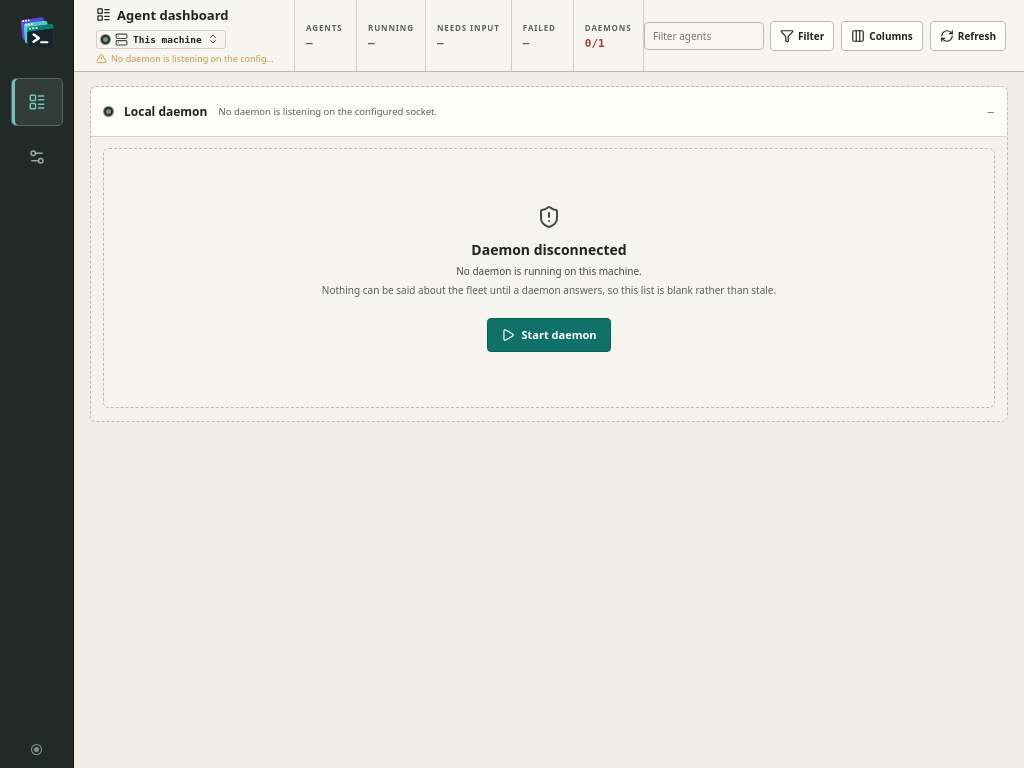
Test case: ControlDeck › starting a disconnected deck (issue #1490) › shows a failed start's technical detail on the overview deck
This screenshot has width=1024, height=768.
What coordinates should you click on to do the following:
click the button with test id "start-daemon"
I would click on:
 (549, 334)
Its box is [488, 318, 611, 352].
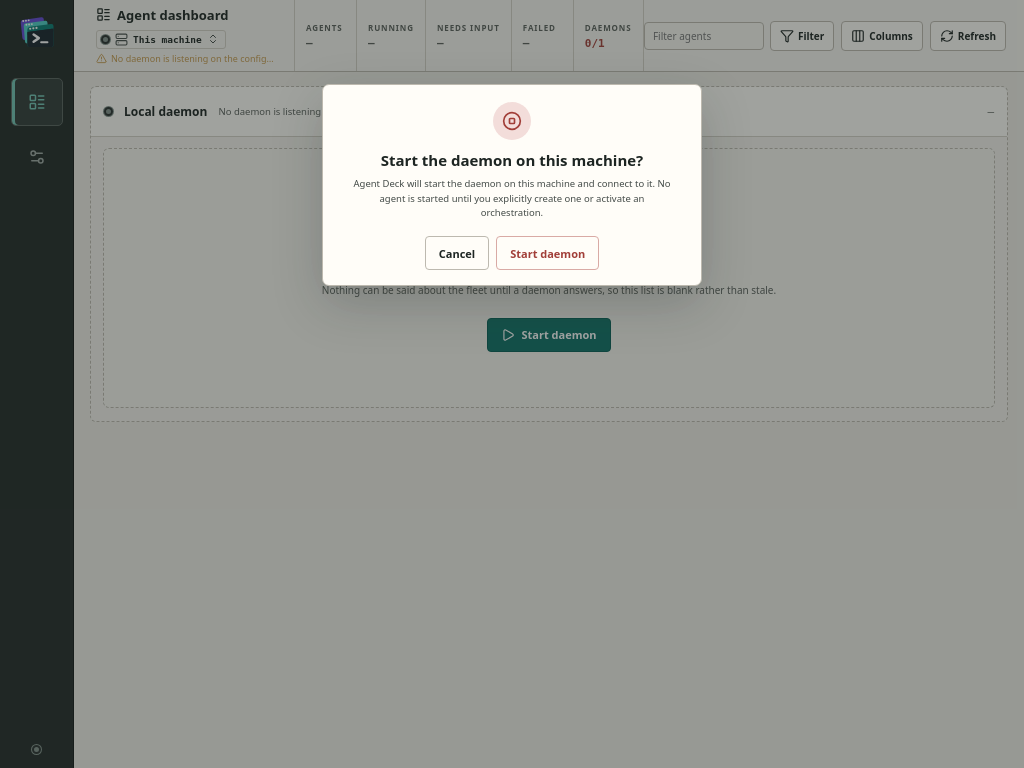
What coordinates should you click on to do the following:
click the button "Start daemon"
I would click on:
 (548, 253)
Its box is [496, 236, 599, 270].
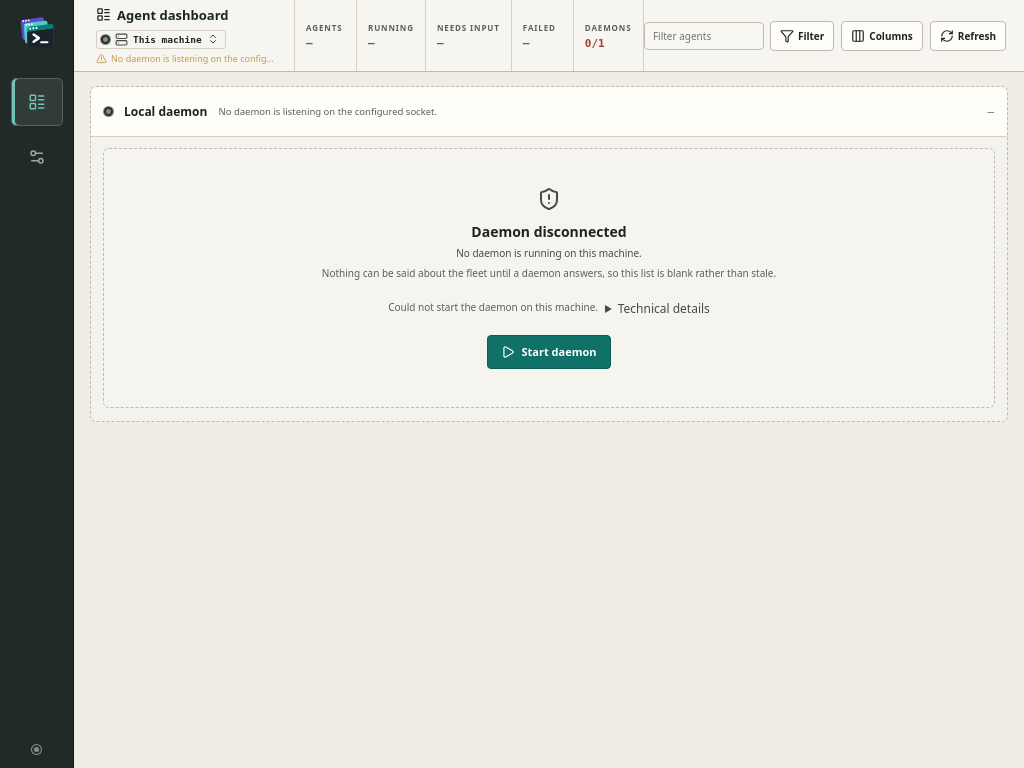
Expected: the message with test id "overview-start-error" shows "Could not start the daemon on this machine.", [388, 300, 598, 314]
